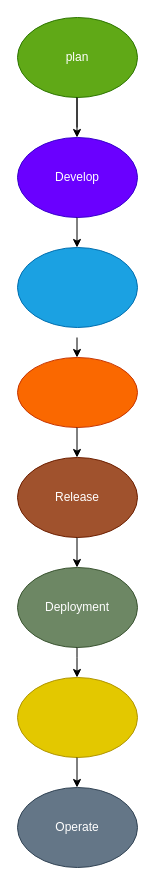
Image size: 155x885. Some labels were removed from this diagram. Each missing label, with the box of its shape:
Bulid: (16, 246, 138, 328)
Maintance: (16, 676, 138, 758)
test: (16, 356, 138, 428)
